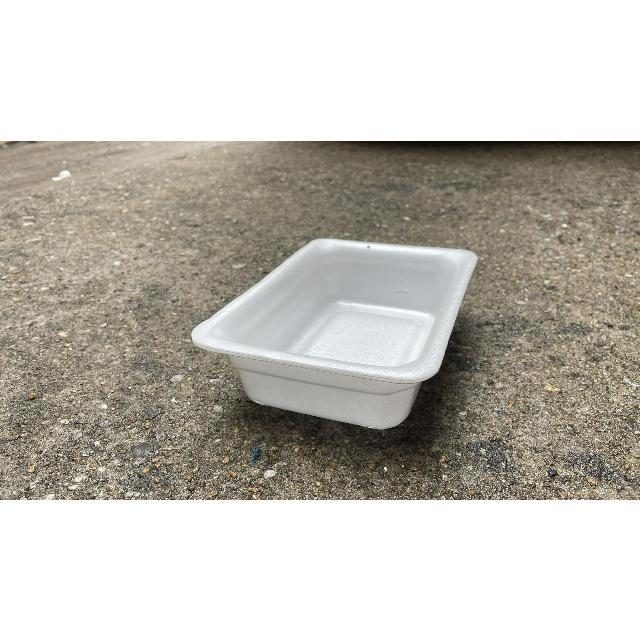Plastico descartable: (190, 238, 479, 431)
